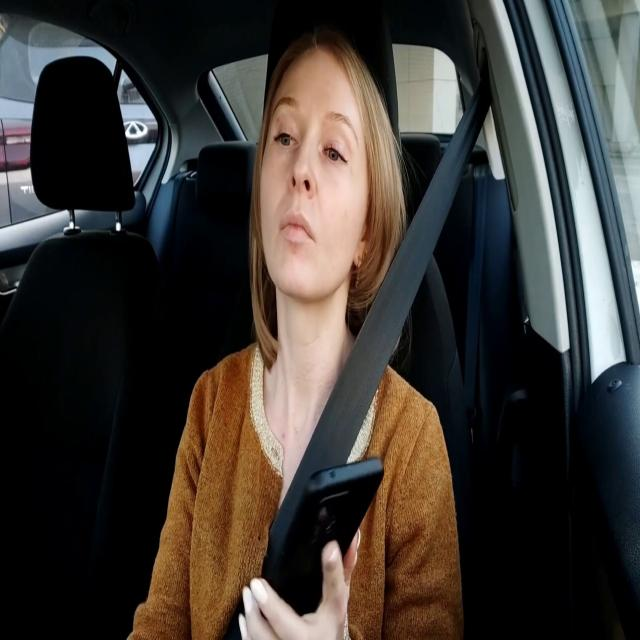phone: (270, 453, 386, 618)
